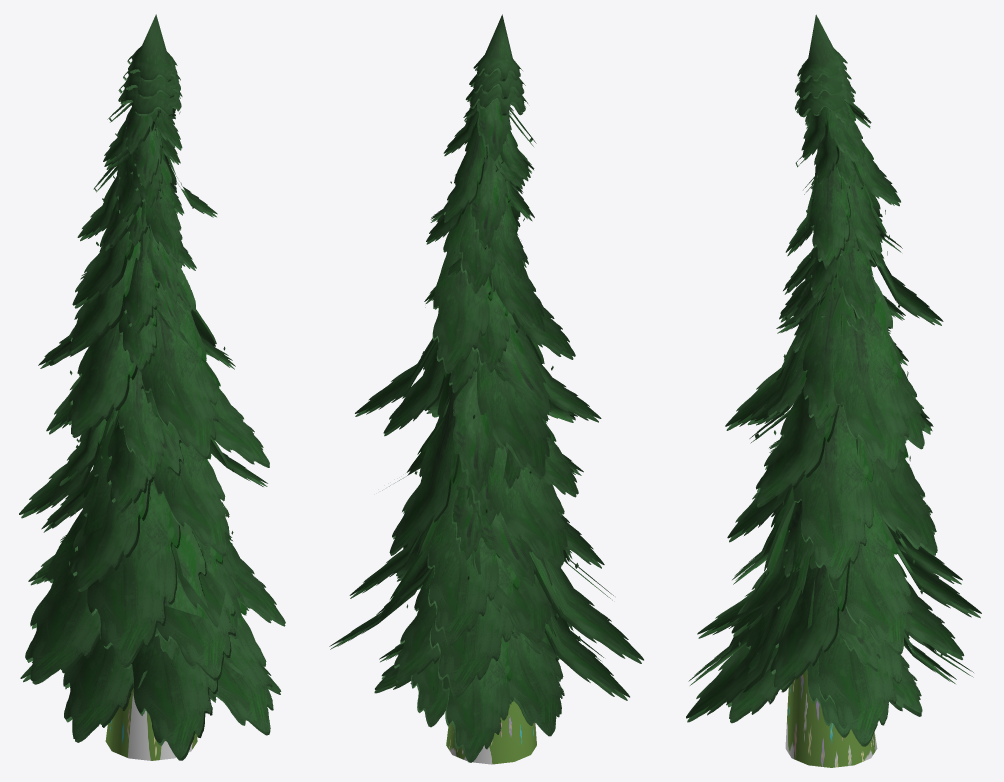
File: Tree.fbx
3 views of the same model, side by side, from view 1: azimuth 30°, elevation 25°; view 2: azimuth 150°, elevation 25°; view 3: azimuth 270°, elevation 25° (orthographic).
Visible parts, largest first — view 1: Plane.093, Cylinder.002; view 2: Plane.093, Cylinder.002; view 3: Plane.093, Cylinder.002.
Part boxes in pixels (x1=…): Plane.093: x1=19, y1=14, x2=285, y2=760; Cylinder.002: x1=105, y1=688, x2=197, y2=760; Plane.093: x1=329, y1=14, x2=643, y2=762; Cylinder.002: x1=446, y1=700, x2=536, y2=764; Plane.093: x1=686, y1=14, x2=981, y2=746; Cylinder.002: x1=785, y1=669, x2=877, y2=767.
Size of the model in its own units: 514 by 1213 by 466.
